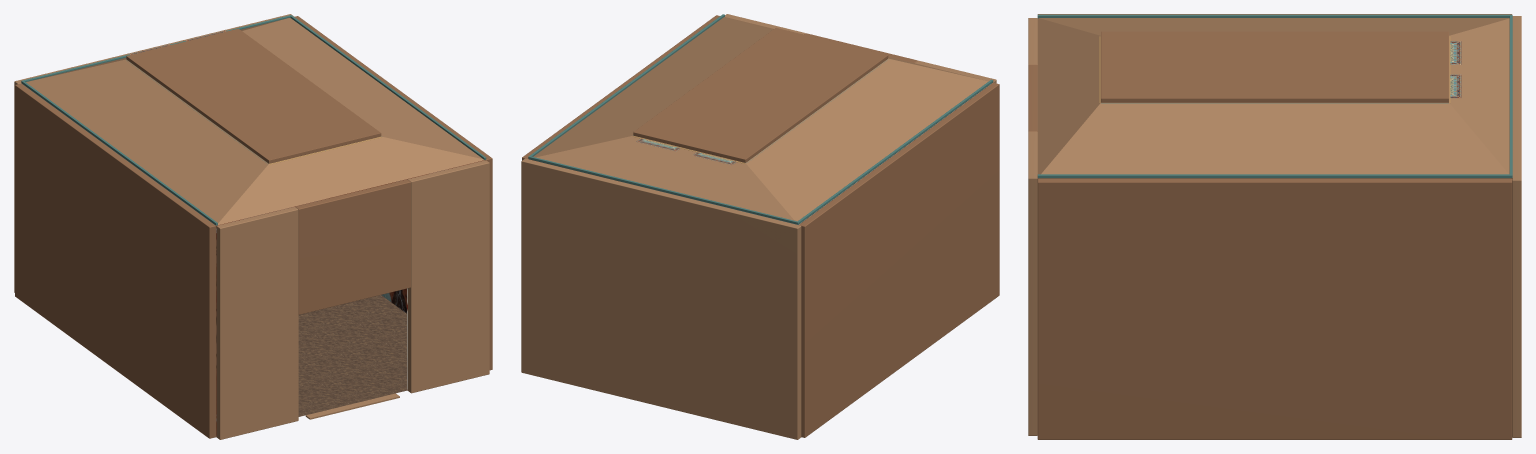
Rendered from interior.glb.
The picture shows the model from 3 angles, left to right: view 1: azimuth 30°, elevation 25°; view 2: azimuth 150°, elevation 25°; view 3: azimuth 270°, elevation 25°; orthographic projection. The views are drawn at different scales.
Parts seen in each view (by area): view 1: export-chamber-west-wall, export-chamber-rear-wall, export-continuous-worn-stone-floor.001, export-ceiling-cross-strip, export-three-wall-deer-left; view 2: export-chamber-rear-wall, export-chamber-west-wall, export-ceiling-cross-strip; view 3: export-chamber-west-wall, export-chamber-rear-wall, export-ceiling-cross-strip, export-ceiling-lotus-coffer.
Part boxes in pixels (x1,y1,x2,y2): export-chamber-west-wall: [15, 16, 492, 438]; export-chamber-rear-wall: [14, 14, 489, 439]; export-continuous-worn-stone-floor.001: [298, 295, 407, 416]; export-ceiling-cross-strip: [21, 15, 486, 225]; export-three-wall-deer-left: [24, 85, 485, 436]; export-chamber-rear-wall: [521, 14, 996, 439]; export-chamber-west-wall: [522, 15, 999, 437]; export-ceiling-cross-strip: [528, 14, 993, 224]; export-chamber-west-wall: [1028, 14, 1512, 439]; export-chamber-rear-wall: [1028, 16, 1521, 437]; export-ceiling-cross-strip: [1037, 14, 1512, 178]; export-ceiling-lotus-coffer: [1450, 41, 1461, 98].
Size of the model in its own units: 25.2 by 20.42 by 31.2.
Materials: 7 (3 with a texture image).
